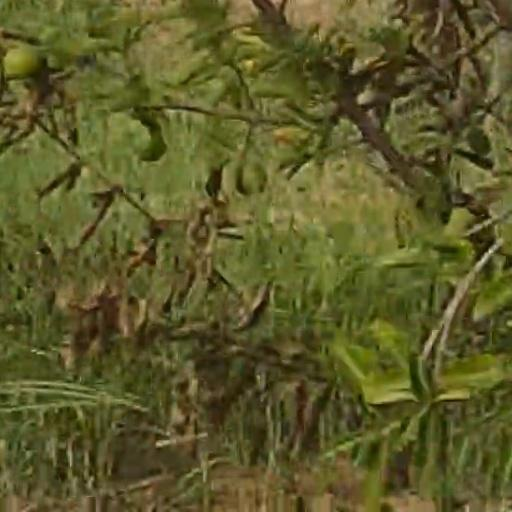acerola_verde: (1, 45, 38, 75)
